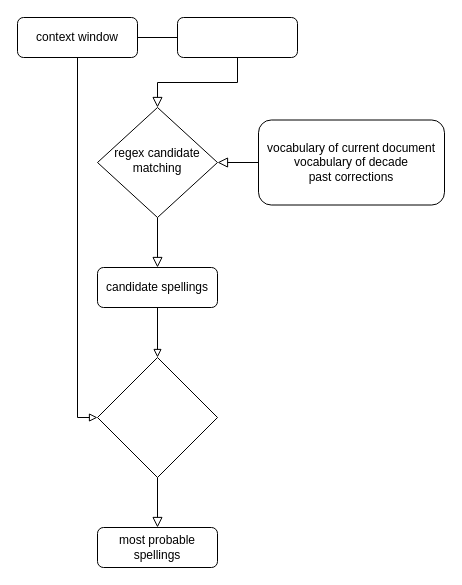
The diagram is 462 pixels wide and 585 high, and some of its shapes have lost their labels. Here are the shapes that lost their labels. From the top down, the box of each, then its label:
(176, 16, 298, 58): blackdot word
(96, 356, 218, 478): MonadGPT evaluation
